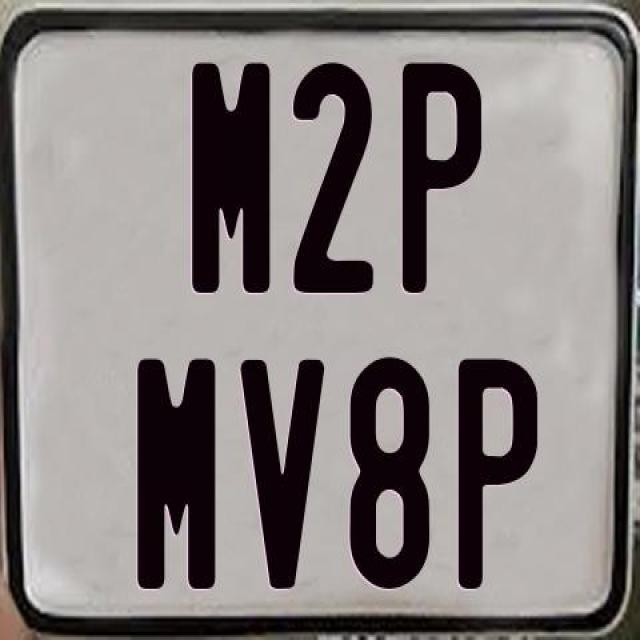2: (290, 59, 376, 290)
8: (348, 357, 430, 589)
M: (189, 61, 272, 300), (134, 357, 216, 592)
P: (401, 62, 484, 293), (454, 357, 534, 587)
V: (240, 358, 327, 597)
